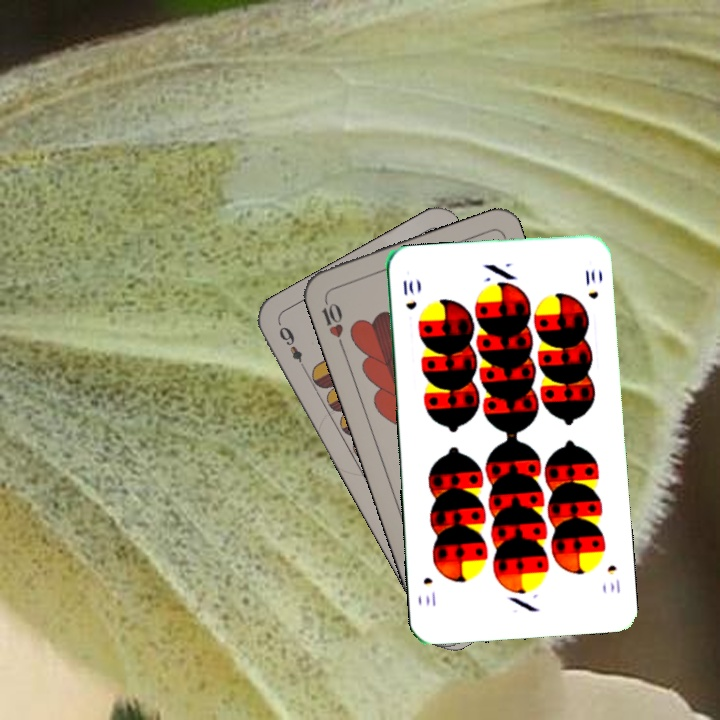E9: (274, 320, 309, 373)
H10: (317, 293, 347, 351)
S10: (399, 276, 419, 313), (603, 561, 623, 597)
